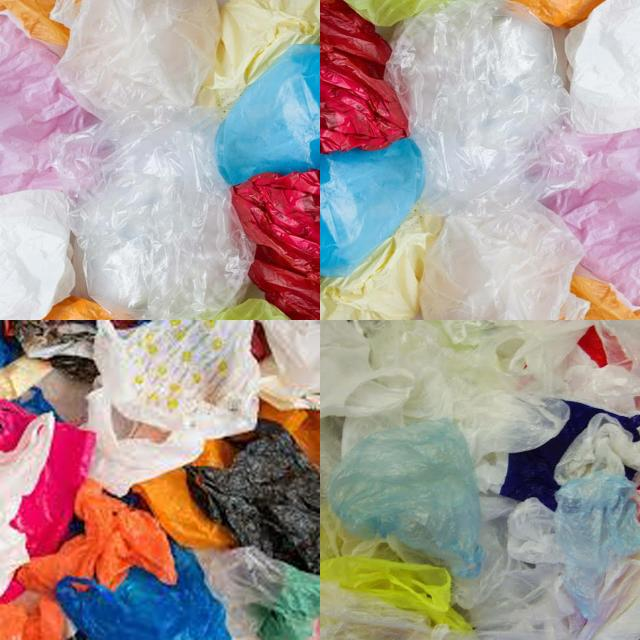Single-layer Plastic: (321, 320, 640, 466), (385, 0, 585, 215), (59, 106, 254, 319), (508, 412, 640, 619), (329, 420, 484, 577), (186, 424, 320, 574), (452, 498, 592, 640), (419, 202, 586, 321), (58, 0, 221, 119), (95, 321, 259, 438), (18, 479, 176, 592), (0, 14, 98, 194), (544, 129, 640, 306), (58, 544, 231, 640), (215, 45, 320, 184), (320, 209, 444, 320), (198, 0, 320, 112), (320, 0, 409, 153), (231, 171, 319, 319), (88, 389, 204, 496), (195, 546, 320, 640), (320, 556, 470, 631), (565, 0, 640, 134), (0, 414, 55, 594), (0, 190, 75, 319), (132, 469, 238, 549)
